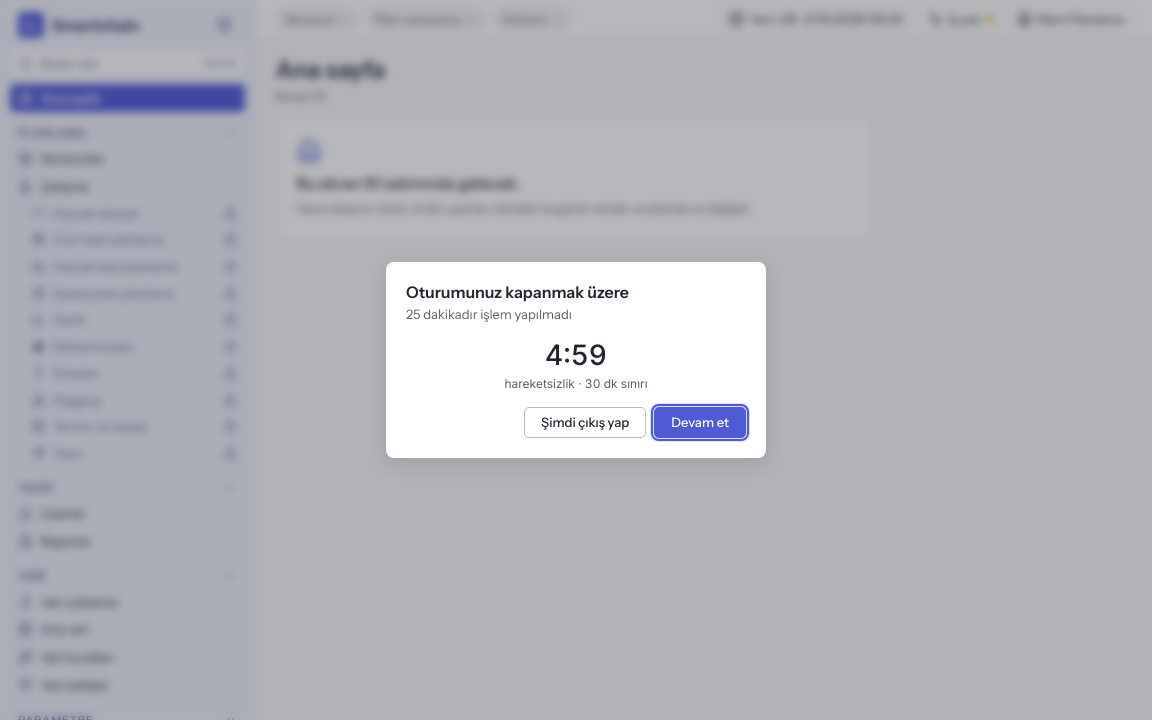
it: hareketsizlik (mockup m24f-0740) › 25. dakikada geri sayımlı pencere; 'Devam et' etkinlik bildirir; 30'da giriş sayfası
The image size is (1152, 720).
Expected: the dialog "Oturumunuz kapanmak üzere" shows "25 dakikadır işlem yapılmadı", 406,306 -> 572,322
Expected: the dialog "Oturumunuz kapanmak üzere" shows "hareketsizlik · 30 dk sınırı", 504,376 -> 648,390
Press Escape in the dialog "Oturumunuz kapanmak üzere", box 386,262 -> 766,458
Press a
Expected: the dialog "Oturumunuz kapanmak üzere" is shown, 386,262 -> 766,458
Click the button "Devam et": (700, 422) 654,406 -> 746,438
Wait 1801000 ms
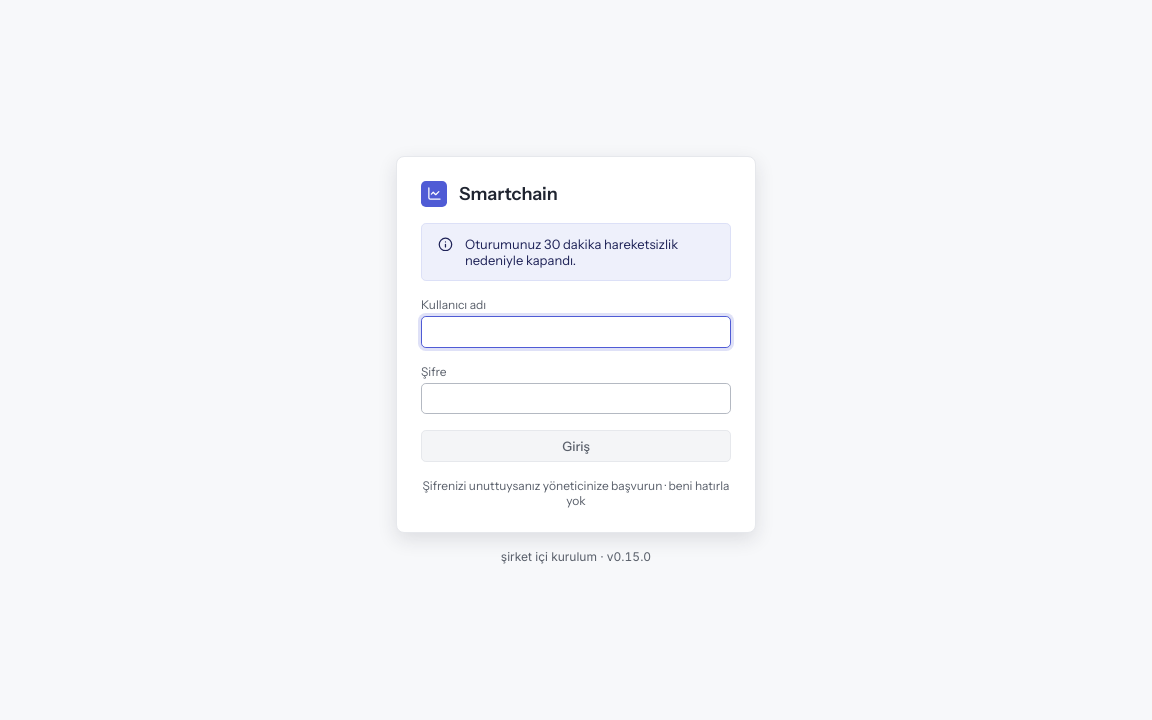
Expected: the heading "Oturumunuz kapanmak üzere" is gone
Expected: the form named "Giriş" is shown, 396,156 -> 756,534
Expected: the message reads "Oturumunuz 30 dakika hareketsizlik nedeniyle kapandı.", 465,236 -> 678,268
